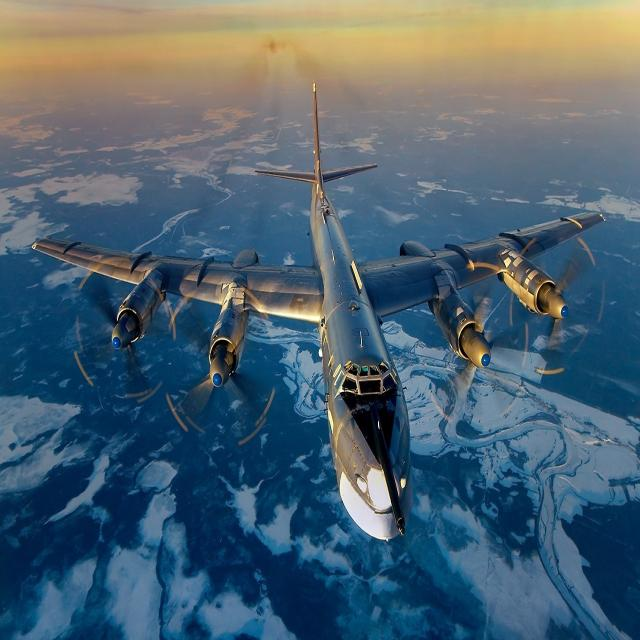MIL_Plane: (32, 80, 606, 544)
